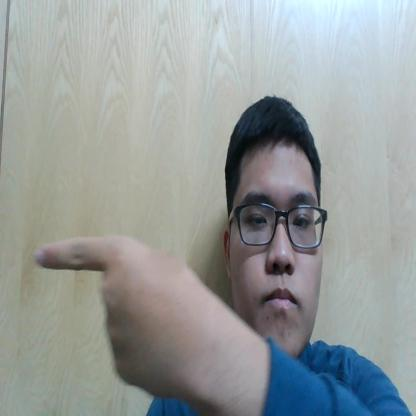right: (30, 217, 216, 404)
